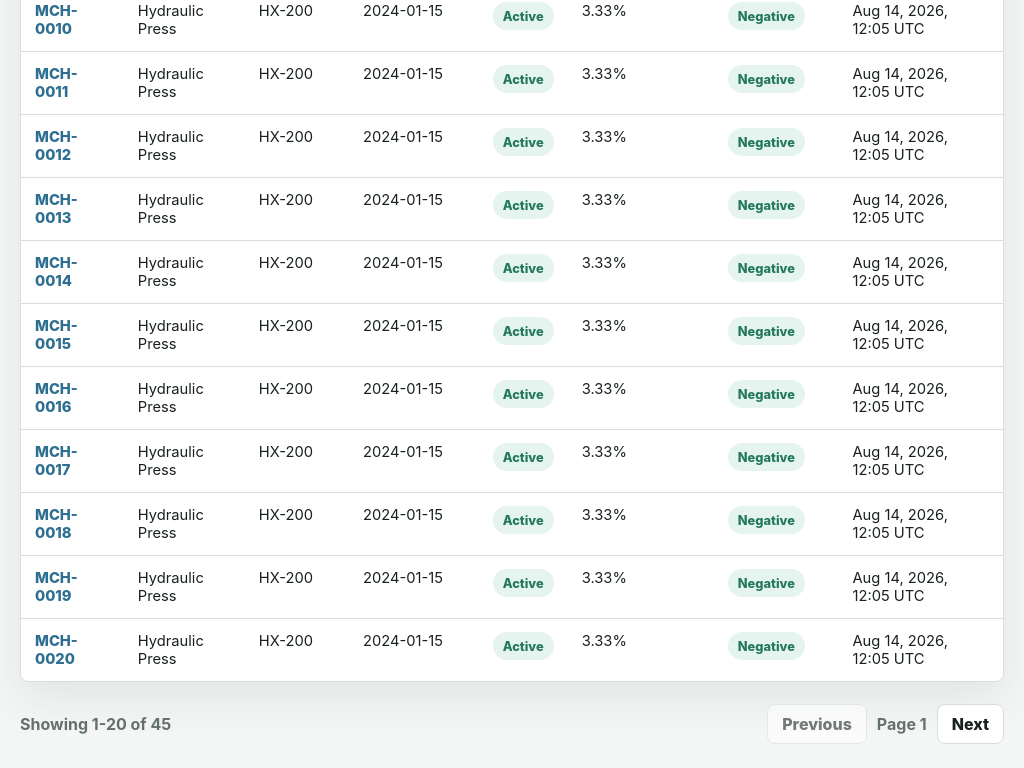
Test: dashboard routing and data states › updates machine pagination through URL-backed controls
(page scrolled)
Check: the text "Showing 1-20 of 45" is shown, box [20,714,171,734]
Click the button with aria-label "Next page" at {"x": 970, "y": 724}, box [937,704,1004,744]
(page scrolled)
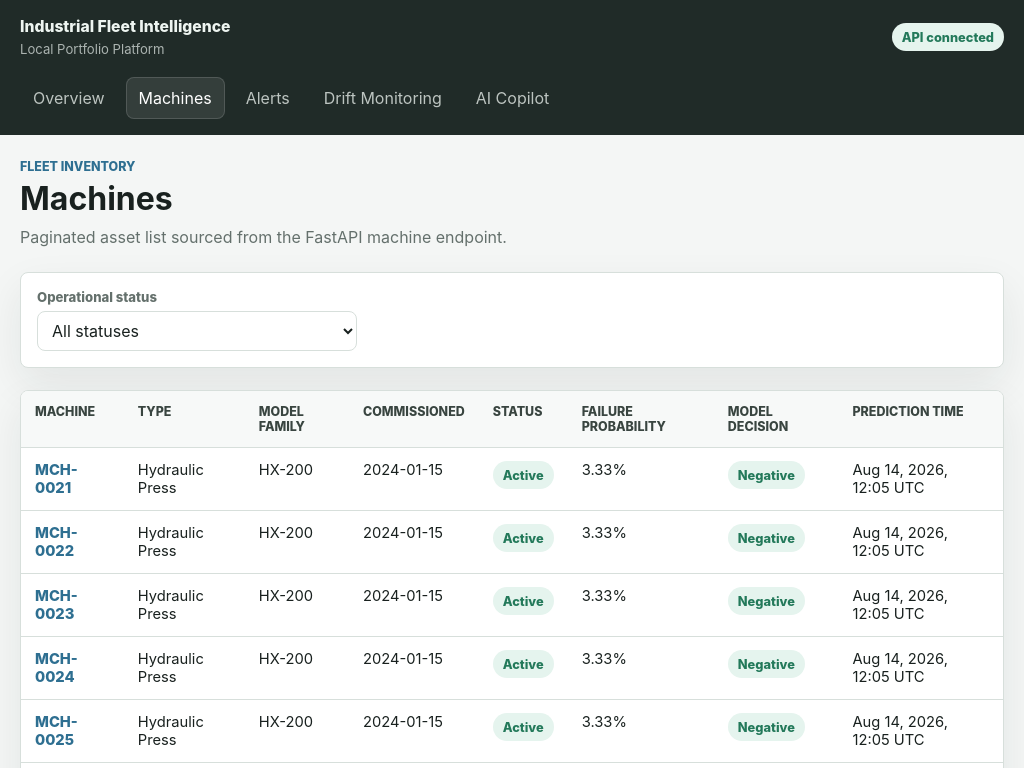
Check: the link "MCH-0021" is shown, box [35,461,78,497]
